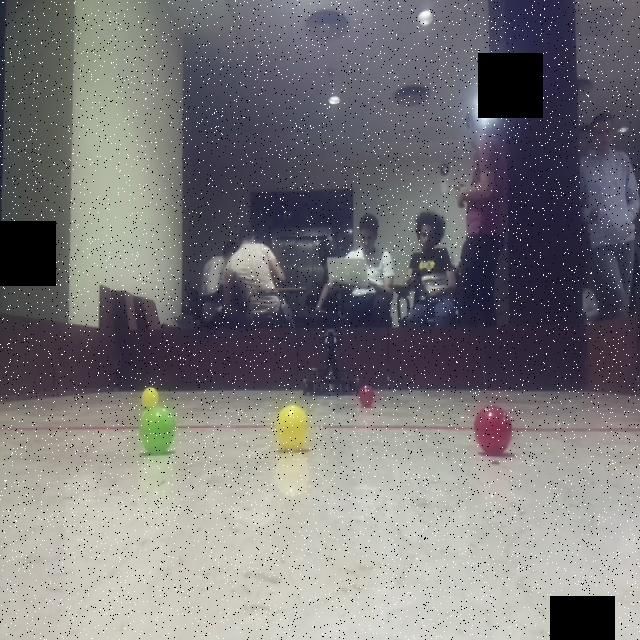ball: (472, 401, 515, 455), (136, 402, 176, 457), (273, 401, 313, 450), (138, 384, 163, 410), (356, 381, 379, 408)
